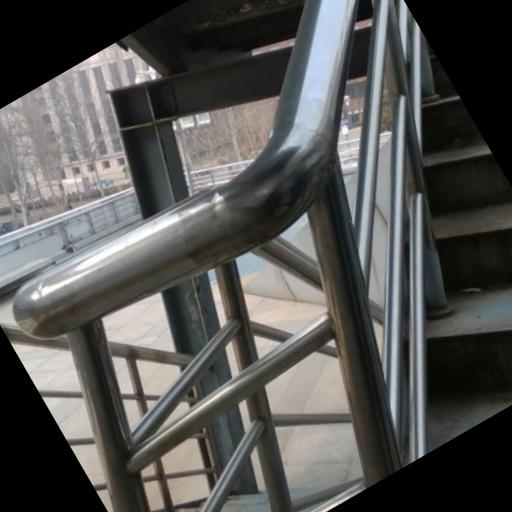stairs: (421, 46, 511, 451)
